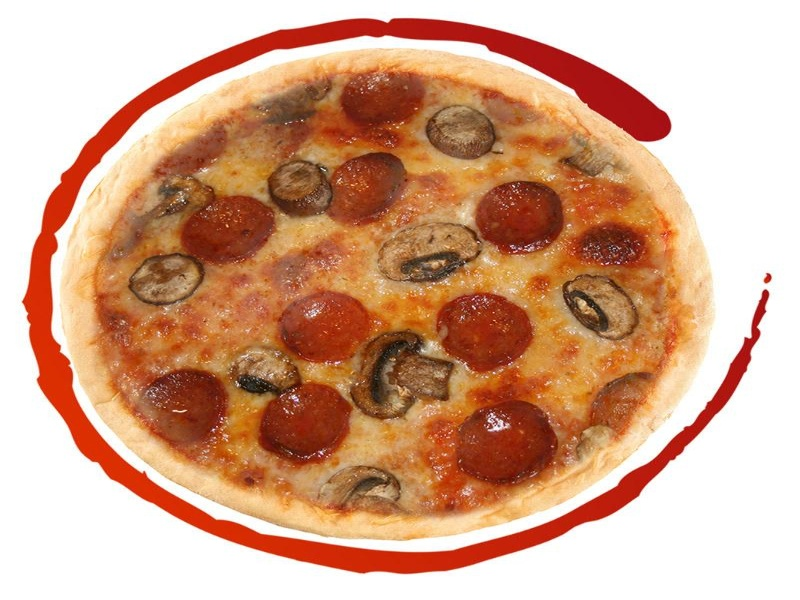champignon: (343, 330, 462, 422), (368, 220, 485, 284), (554, 269, 646, 346), (314, 463, 409, 513), (228, 344, 312, 398)
